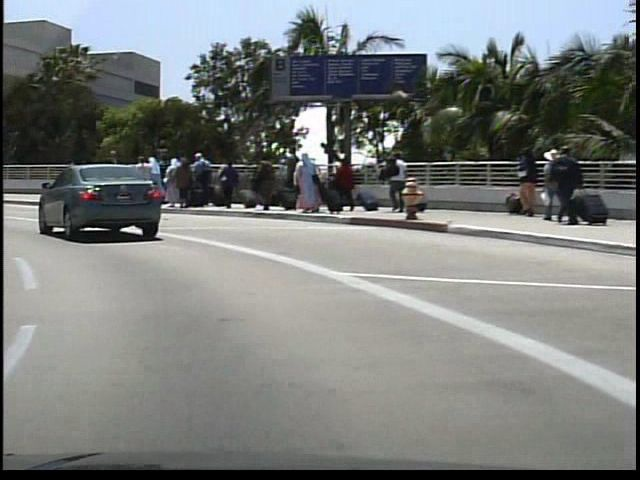person: (543, 143, 578, 227), (66, 152, 94, 212), (100, 148, 127, 208), (382, 148, 403, 213), (129, 153, 148, 205), (70, 156, 89, 197)
